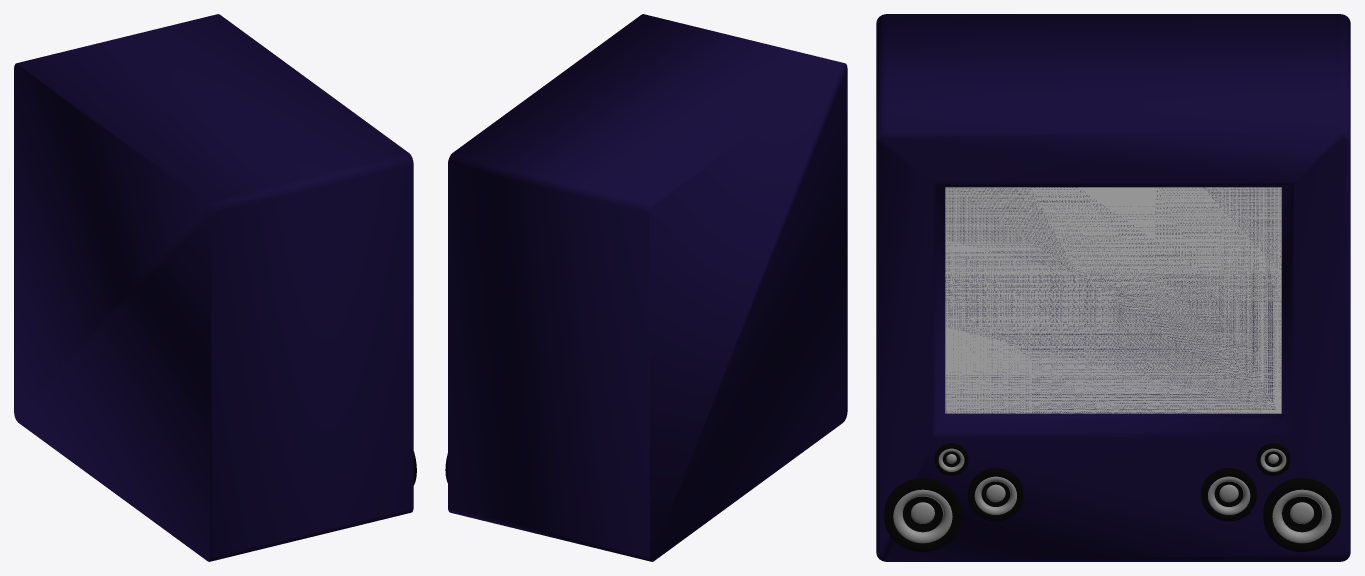
3 views of the same model, side by side, from view 1: azimuth 30°, elevation 25°; view 2: azimuth 150°, elevation 25°; view 3: azimuth 270°, elevation 25° (orthographic). The views are drawn at different scales.
Parts seen in each view (by area): view 1: tv; view 2: tv; view 3: tv, screen, speeker, speeker .004, speeker .002, speeker .006, speeker torn 1.004, speeker torn 1, speeker torn 1.006, speeker torn 1.002, speeker .003, speeker .007.
Part boxes in pixels (x1,y1,x2,y2): tv: (14,14,413,561); tv: (448,14,847,561); tv: (876,14,1350,561); screen: (945,187,1281,413); speeker: (1263,478,1340,552); speeker .004: (884,478,961,552); speeker .002: (1201,468,1256,521); speeker .006: (968,468,1023,521); speeker torn 1.004: (893,489,952,543); speeker torn 1: (1272,489,1331,543); speeker torn 1.006: (974,476,1016,514); speeker torn 1.002: (1208,476,1250,514); speeker .003: (1256,443,1290,475); speeker .007: (934,443,968,475).
Size of the model in its own units: 1.21 by 2 by 2.
